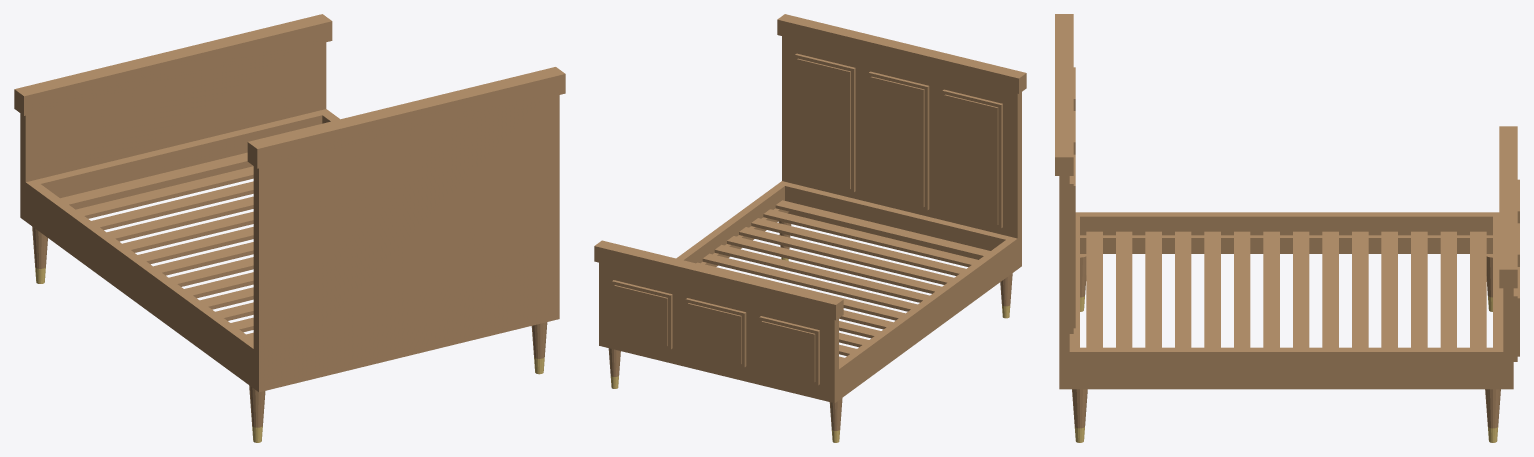
3 views of the same model, side by side, from view 1: azimuth 30°, elevation 25°; view 2: azimuth 150°, elevation 25°; view 3: azimuth 270°, elevation 25° (orthographic). The views are drawn at different scales.
Parts seen in each view (by area): view 1: headboard, footboard, bed_frame_base, slat.013, slat.012, slat.011, slat.010, slat.009, slat.008, slat.007, slat.006, slat.005 (+4 smaller); view 2: headboard, footboard, bed_frame_base, slat, slat.005, slat.001, slat.006, slat.002, slat.004, slat.003, slat.007, slat.008 (+1 smaller); view 3: bed_frame_base, headboard, footboard, slat, slat.002, slat.004, slat.006, slat.008, slat.009, slat.010, slat.011, slat.013 (+7 smaller).
Part boxes in pixels (left/top/right/bottom): headboard: left=247, top=67, right=565, bottom=392; footboard: left=14, top=14, right=332, bottom=221; bed_frame_base: left=25, top=109, right=339, bottom=387; slat.013: left=60, top=152, right=250, bottom=207; slat.012: left=76, top=166, right=253, bottom=218; slat.011: left=91, top=181, right=253, bottom=229; slat.010: left=107, top=196, right=253, bottom=241; slat.009: left=122, top=211, right=253, bottom=252; slat.008: left=138, top=227, right=253, bottom=264; slat.007: left=153, top=242, right=253, bottom=275; slat.006: left=169, top=257, right=253, bottom=286; slat.005: left=184, top=272, right=253, bottom=298; headboard: left=777, top=14, right=1026, bottom=268; footboard: left=594, top=240, right=843, bottom=403; bed_frame_base: left=676, top=181, right=1017, bottom=399; slat: left=775, top=200, right=990, bottom=258; slat.005: left=714, top=244, right=929, bottom=302; slat.001: left=763, top=209, right=977, bottom=267; slat.006: left=702, top=253, right=917, bottom=311; slat.002: left=751, top=218, right=965, bottom=275; slat.004: left=727, top=236, right=941, bottom=293; slat.003: left=739, top=227, right=953, bottom=284; slat.007: left=696, top=262, right=905, bottom=320; slat.008: left=839, top=310, right=892, bottom=329; bed_frame_base: left=1069, top=212, right=1503, bottom=389; headboard: left=1055, top=14, right=1075, bottom=389; footboard: left=1499, top=126, right=1519, bottom=389; slat: left=1086, top=231, right=1102, bottom=347; slat.002: left=1145, top=231, right=1161, bottom=347; slat.004: left=1204, top=231, right=1220, bottom=347; slat.006: left=1263, top=231, right=1279, bottom=347; slat.008: left=1322, top=231, right=1338, bottom=347; slat.009: left=1352, top=231, right=1368, bottom=347; slat.010: left=1381, top=231, right=1397, bottom=347; slat.011: left=1411, top=231, right=1427, bottom=347; slat.013: left=1470, top=231, right=1486, bottom=347.
Bounding box in the file's own units: 1.64 × 1.55 × 2.25.
